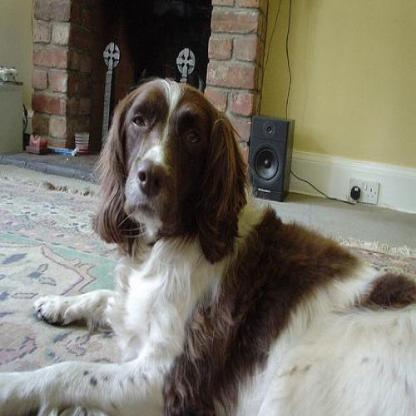English_springer: (0, 76, 414, 414)
